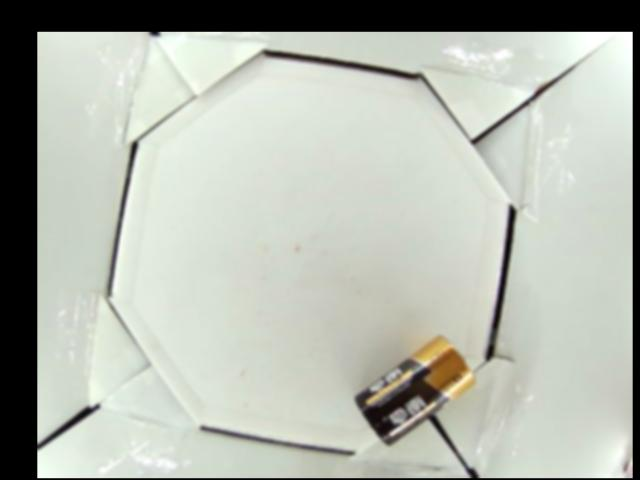Battery: (353, 334, 476, 444)
